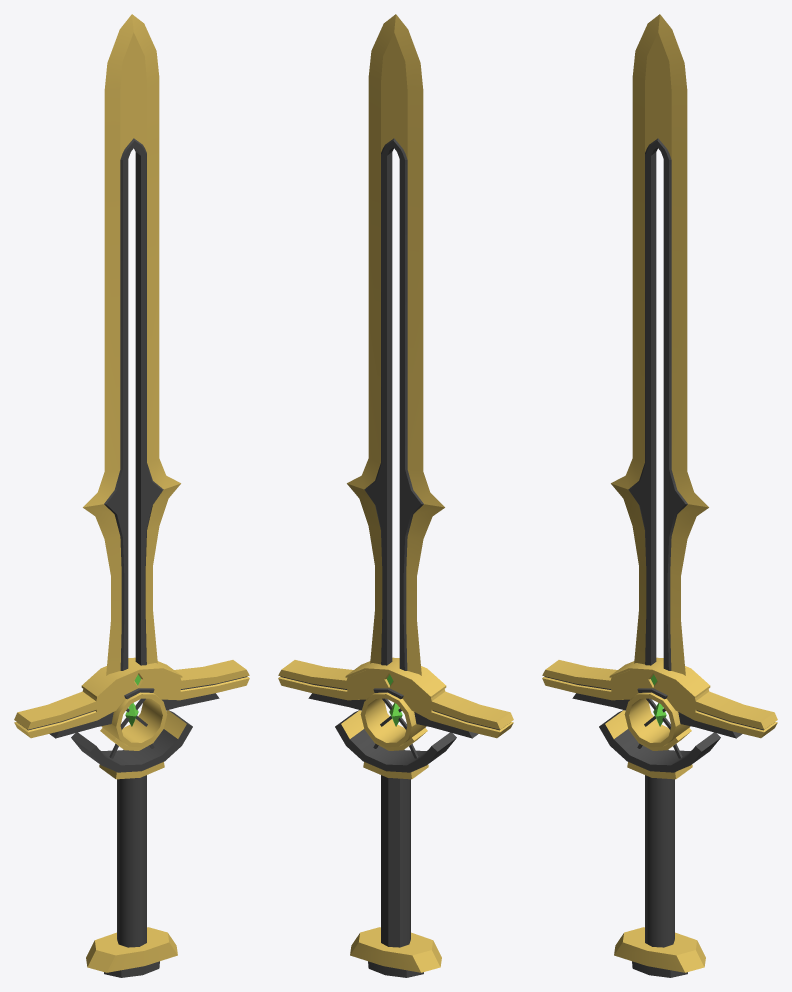
The model's file is ArtifactSword.fbx.
3 renders of one model, left to right at view 1: azimuth 30°, elevation 25°; view 2: azimuth 150°, elevation 25°; view 3: azimuth 330°, elevation 25°, orthographic.
Visible parts, largest first — view 1: ArtifactSword; view 2: ArtifactSword; view 3: ArtifactSword.
Boxes of the visible parts, left/top/right/bottom form: ArtifactSword: left=14, top=14, right=249, bottom=977; ArtifactSword: left=278, top=14, right=513, bottom=977; ArtifactSword: left=542, top=14, right=777, bottom=977.
Size of the model in its own units: 42.84 by 176 by 8.67.
